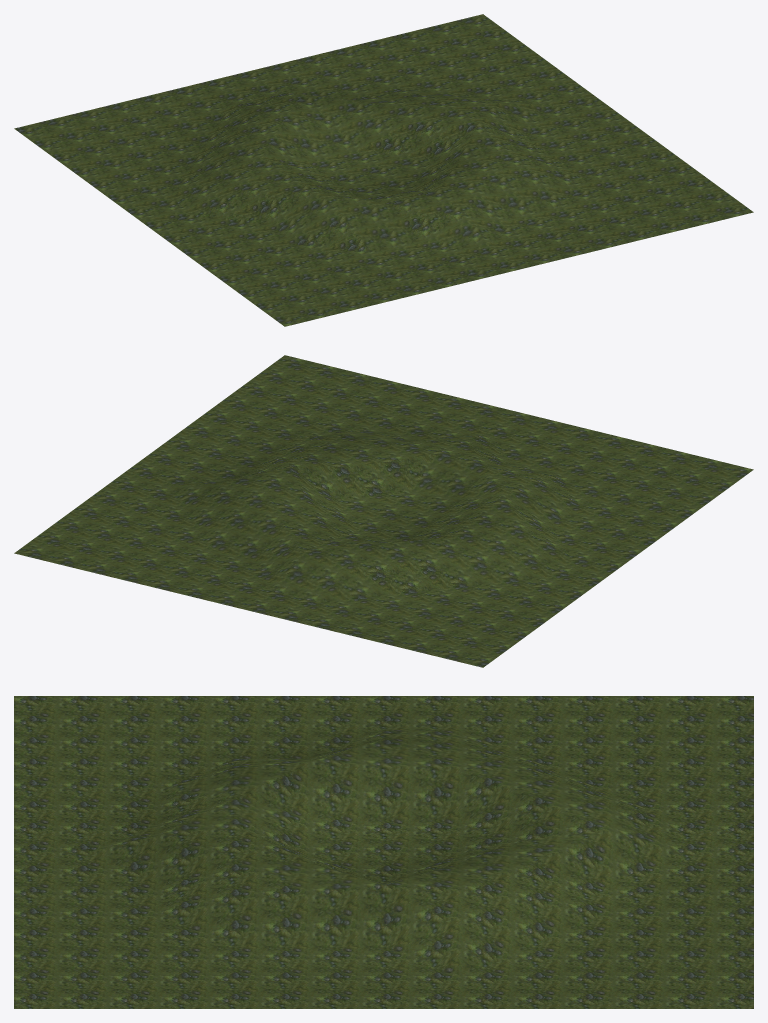
File: GroundTest.obj
The picture shows the model from 3 angles, top to bottom: view 1: azimuth 30°, elevation 25°; view 2: azimuth 150°, elevation 25°; view 3: azimuth 270°, elevation 25°; orthographic projection. The views are drawn at different scales.
Parts seen in each view (by area): view 1: GroundTest; view 2: GroundTest; view 3: GroundTest.
Boxes of the visible parts, bbox=[...] form: GroundTest: bbox=[14, 14, 753, 326]; GroundTest: bbox=[14, 355, 753, 667]; GroundTest: bbox=[14, 696, 753, 1008].
Size of the model in its own units: 556 by 24.51 by 556.
